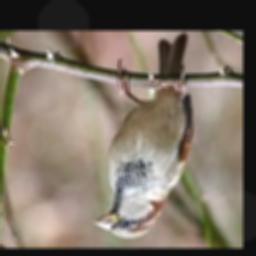Sparrow: (94, 34, 192, 238)
